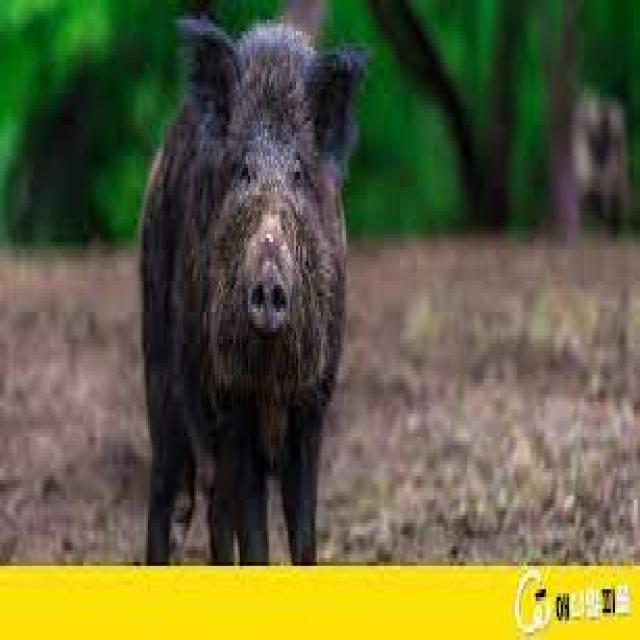boar: (106, 6, 388, 560)
